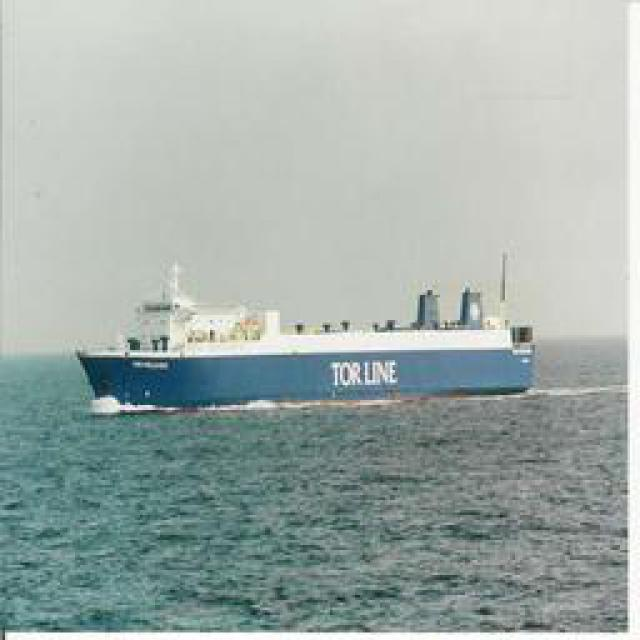Ship: (80, 263, 540, 411)
